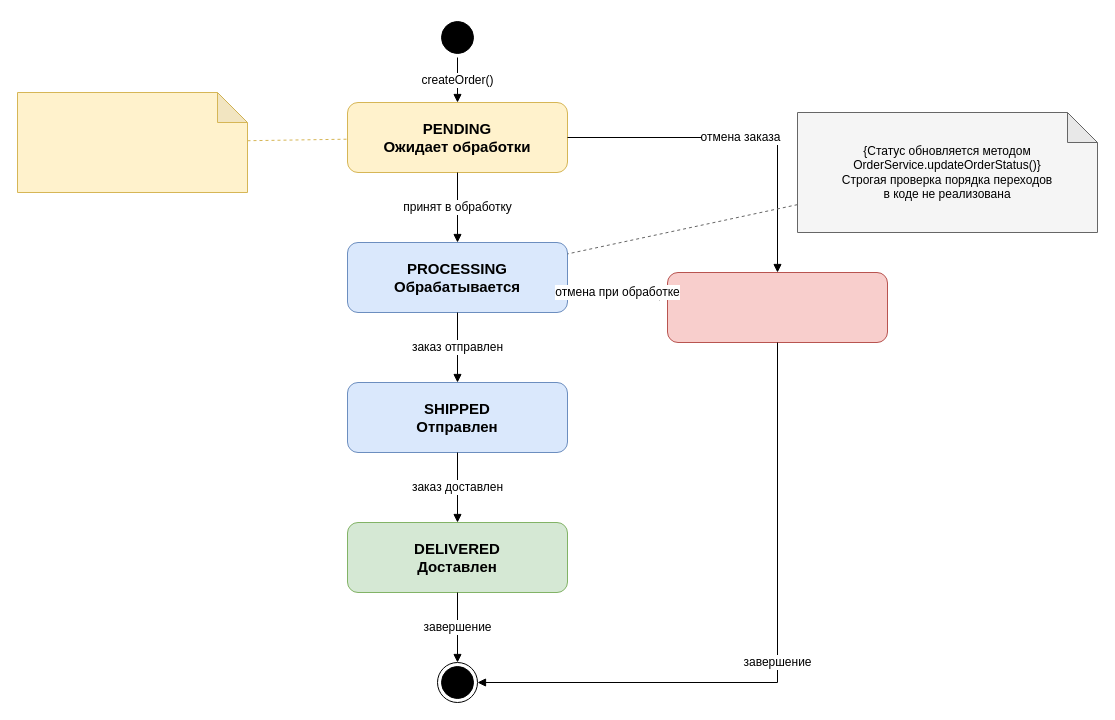
The diagram is 1115 pixels wide and 720 high, and some of its shapes have lost their labels. Here are the shapes that lost their labels. From the top down, the centre of each, then its label:
At (132,142): "{Заказ создается методом OrderService.createOrder()} Начальный статус: PENDING".
At (777,307): "CANCELLED Отменен".
